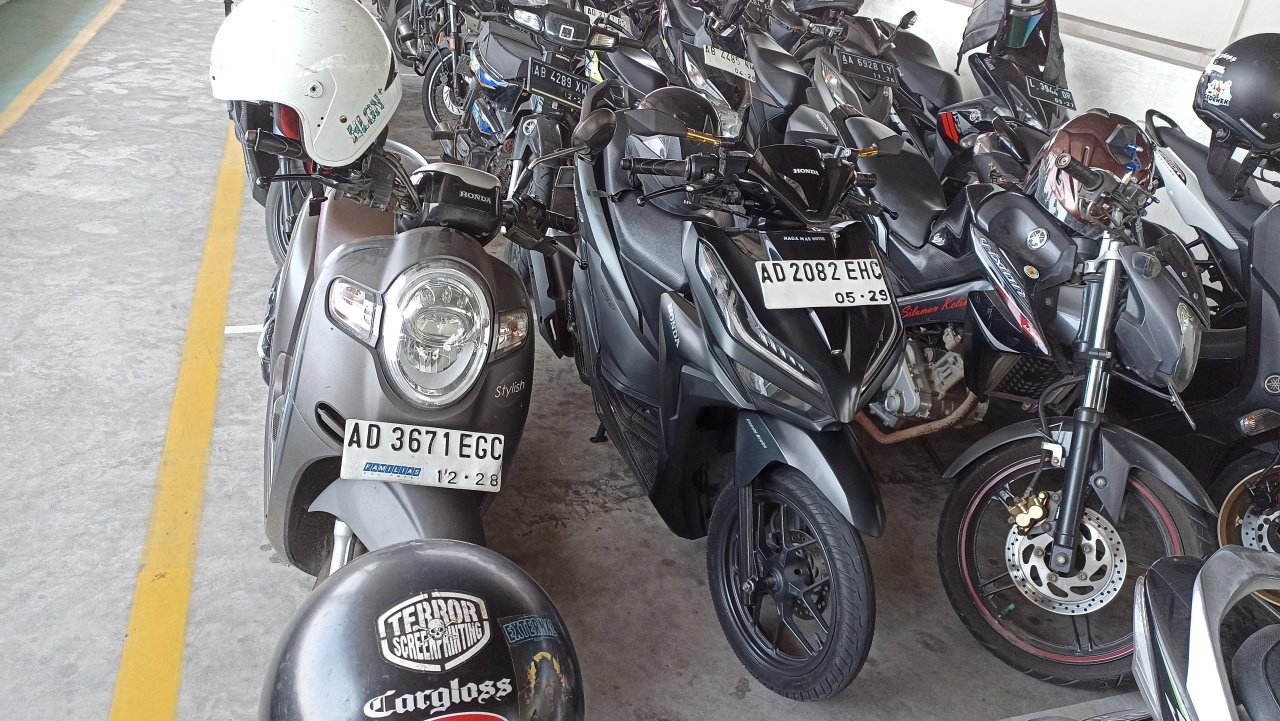plate: (341, 420, 506, 493), (756, 259, 891, 310), (529, 58, 590, 110), (837, 49, 899, 86), (704, 44, 755, 83), (1027, 76, 1077, 111)
